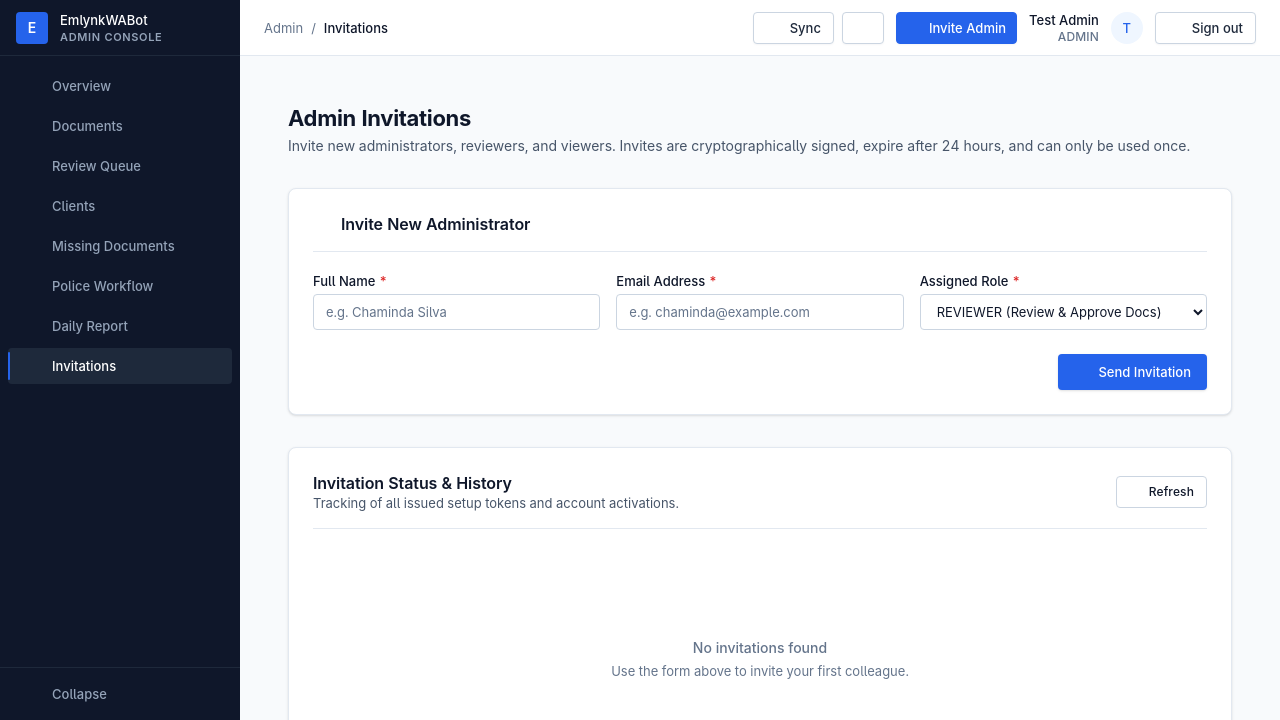
Admin Invitations Page › submitting the form sends POST /api/admin/invitations and shows success message
Expected: the heading "Admin Invitations" is shown, [288, 105, 471, 131]
Type "New Colleague" into the field labelled "Full Name *" at (457, 312), box [313, 294, 600, 330]
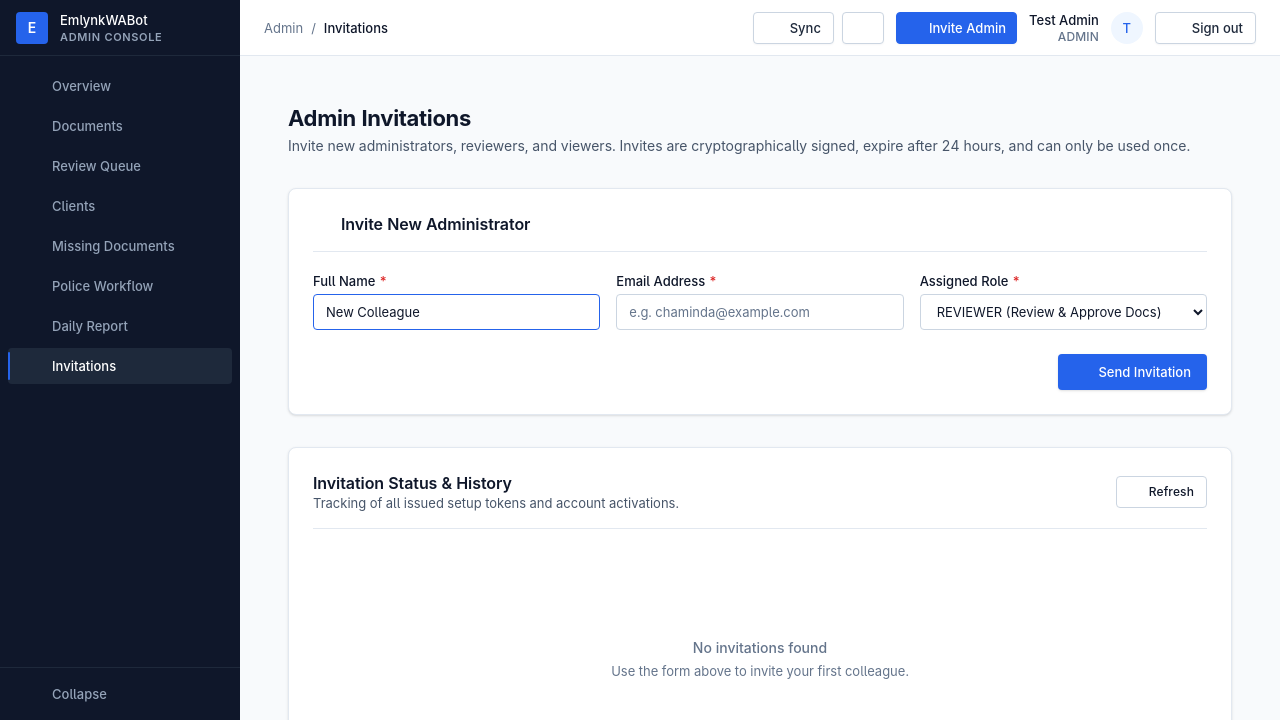
Type "newcolleague@example.invalid" into the field labelled "Email Address *" at (760, 312), box [616, 294, 904, 330]
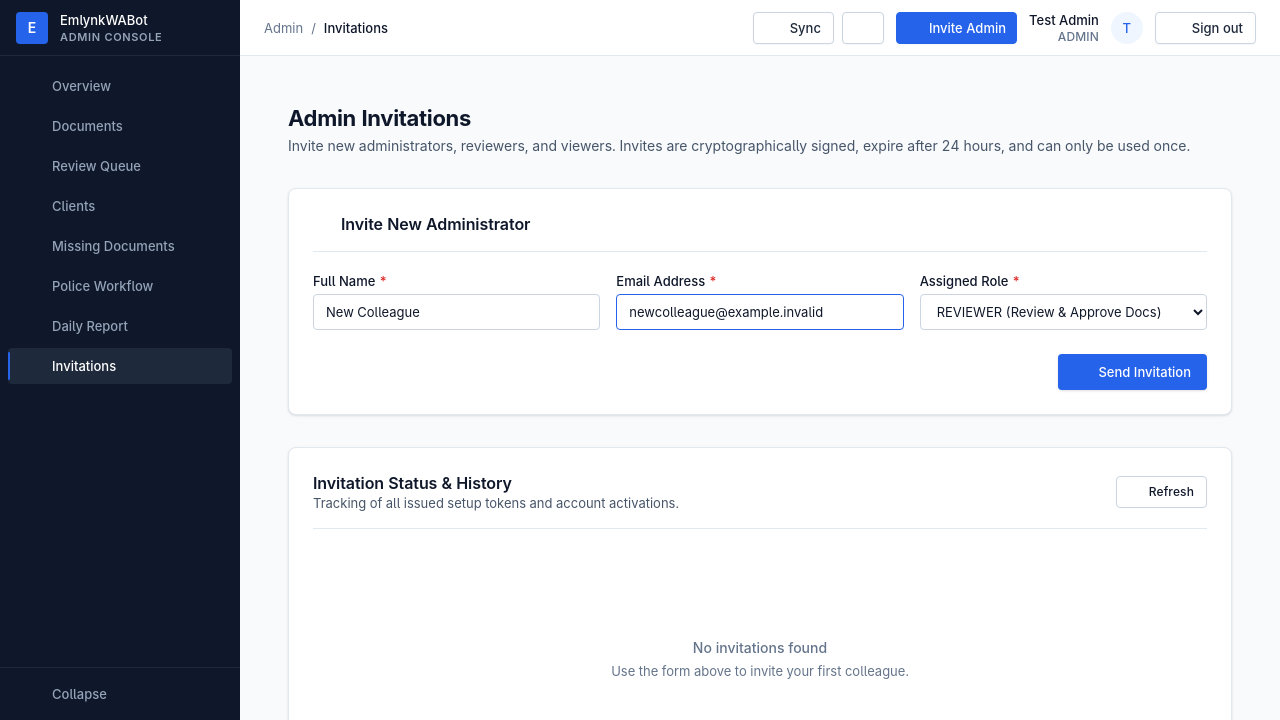
Click the button "Send Invitation" at (1133, 372), box [1058, 354, 1207, 390]
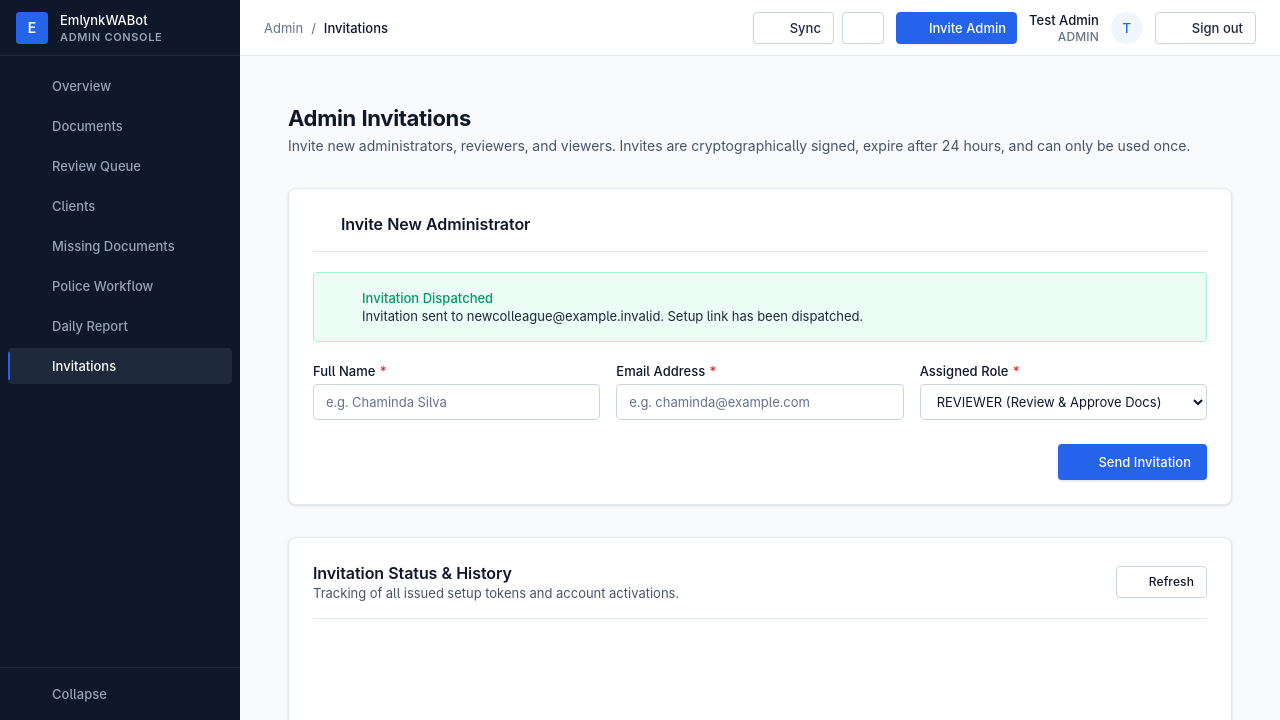
Expected: the text "Invitation Dispatched" is shown, [362, 290, 493, 306]
Expected: the text "Invitation sent to newcolleague@example.invalid" is shown, [362, 308, 863, 324]
